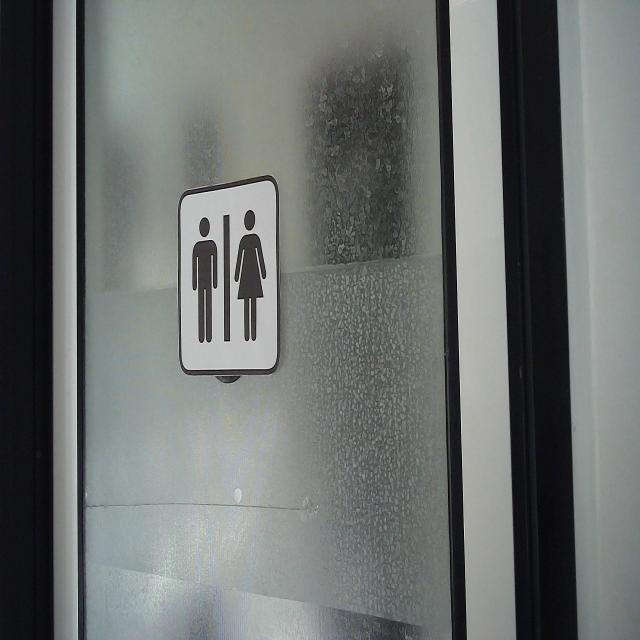restroom: (176, 172, 282, 380)
